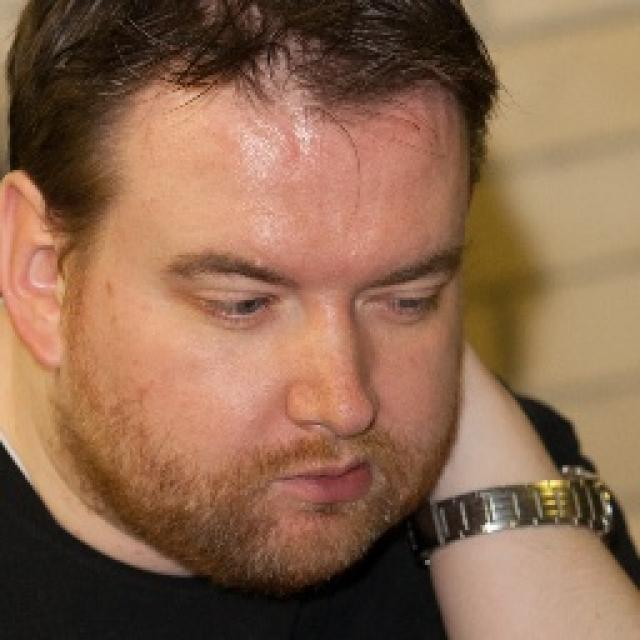earlobe: (0, 169, 71, 373)
